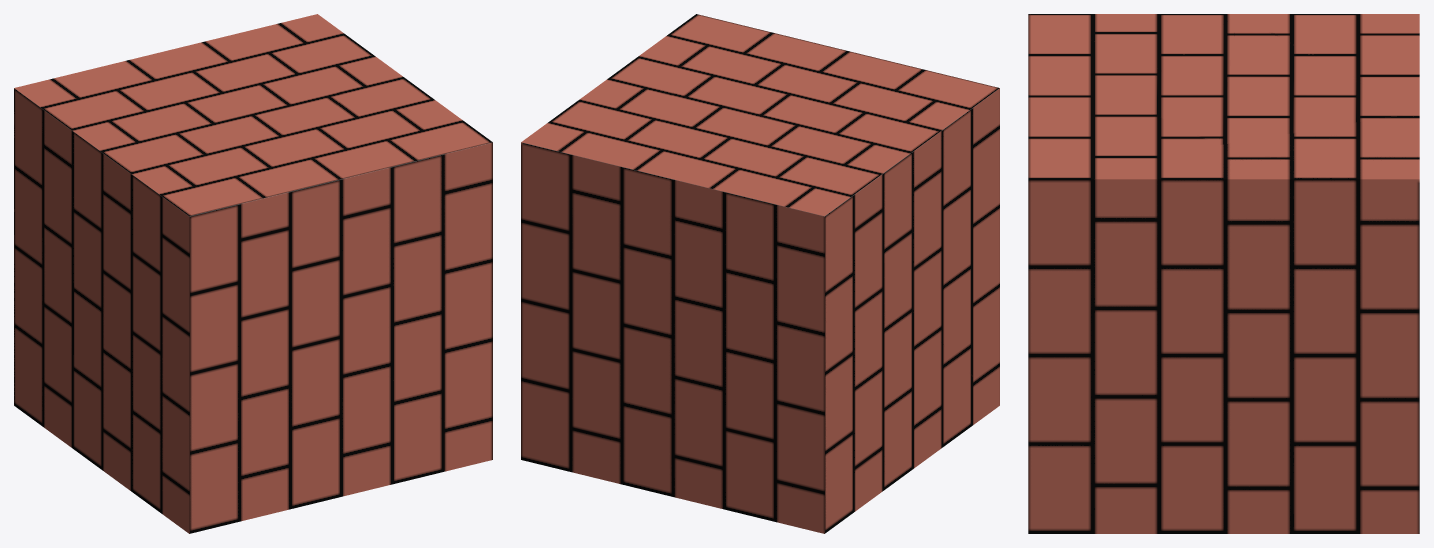
Rendered from BrickBox.fbx.
The picture shows the model from 3 angles, left to right: view 1: azimuth 30°, elevation 25°; view 2: azimuth 150°, elevation 25°; view 3: azimuth 270°, elevation 25°; orthographic projection. The views are drawn at different scales.
Visible parts, largest first — view 1: Cube, Cube_cell.006, Cube_cell.004, Cube_cell.002, Cube_cell, Cube_cell.007, Cube_cell.005; view 2: Cube, Cube_cell.004, Cube_cell.001, Cube_cell.005, Cube_cell, Cube_cell.006; view 3: Cube, Cube_cell.003, Cube_cell.001, Cube_cell.004, Cube_cell, Cube_cell.002.
Part boxes in pixels (left/top/right/bottom): Cube: left=14, top=44, right=492, bottom=533; Cube_cell.006: left=60, top=147, right=379, bottom=396; Cube_cell.004: left=14, top=44, right=344, bottom=263; Cube_cell.002: left=357, top=142, right=492, bottom=329; Cube_cell: left=195, top=14, right=405, bottom=94; Cube_cell.007: left=73, top=318, right=343, bottom=533; Cube_cell.005: left=14, top=237, right=85, bottom=457; Cube: left=521, top=14, right=999, bottom=532; Cube_cell.004: left=644, top=81, right=905, bottom=342; Cube_cell.001: left=521, top=203, right=844, bottom=479; Cube_cell.005: left=602, top=339, right=882, bottom=533; Cube_cell: left=521, top=77, right=672, bottom=171; Cube_cell.006: left=871, top=117, right=959, bottom=329; Cube: left=1028, top=14, right=1419, bottom=533; Cube_cell.003: left=1028, top=343, right=1296, bottom=533; Cube_cell.001: left=1191, top=271, right=1419, bottom=533; Cube_cell.004: left=1124, top=14, right=1419, bottom=145; Cube_cell: left=1184, top=112, right=1419, bottom=357; Cube_cell.002: left=1028, top=179, right=1217, bottom=352.
Bounding box in the file's own units: 200 × 200 × 200.
